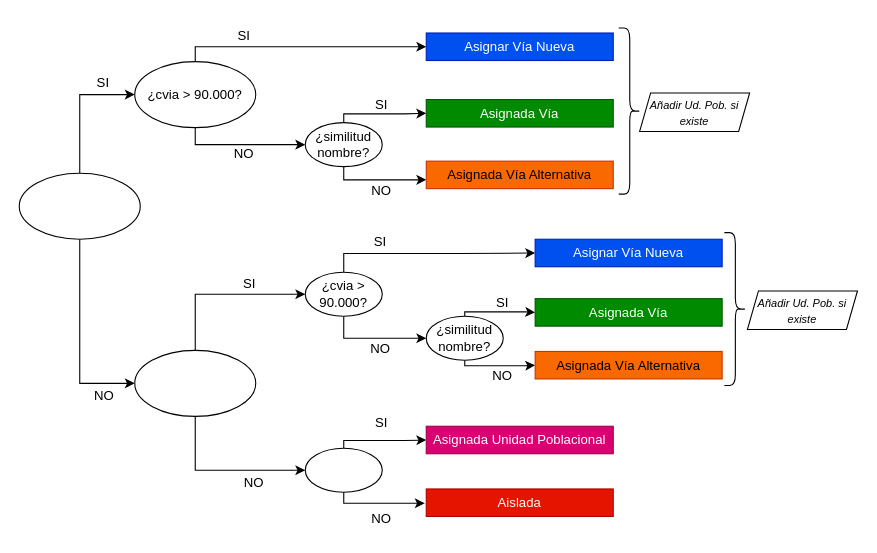
Image size: 877x553. Some labels were removed from this diagram. Here are the shapes that lost their labels. From the top down, the box of each, then its label:
(18, 172, 140, 239): ¿Existe portal?
(134, 349, 256, 416): ¿existe vecindad a vía? (buffer 100m)
(304, 447, 382, 492): ¿existe Ud.Pob.?
